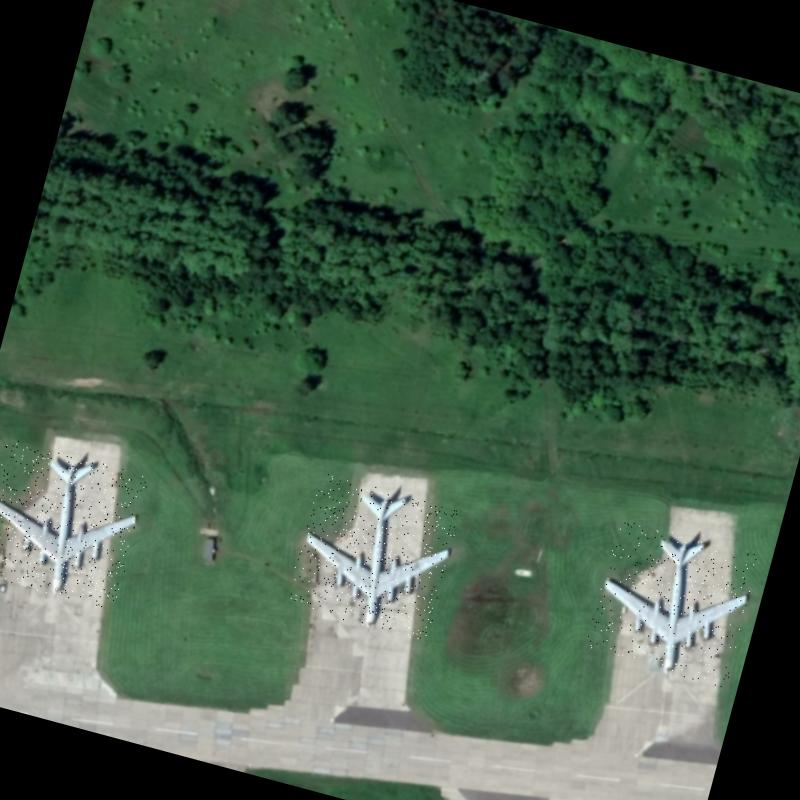A17: (284, 472, 462, 642), (583, 518, 761, 688), (0, 437, 150, 611)
